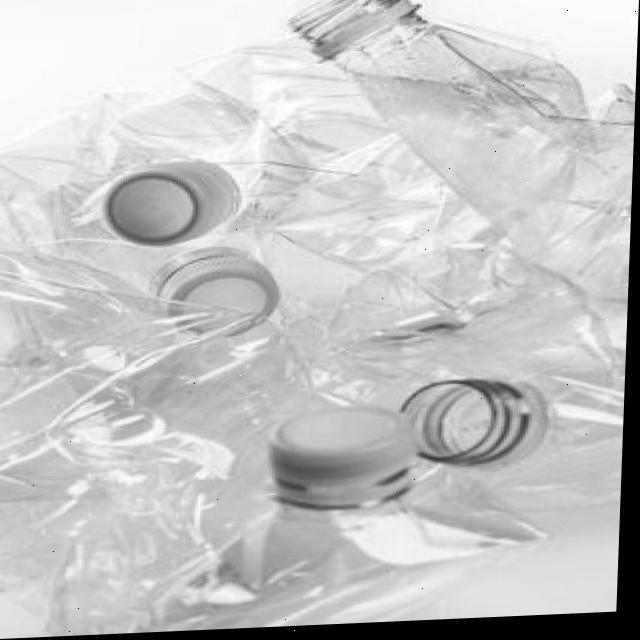bottle: (19, 1, 611, 622)
